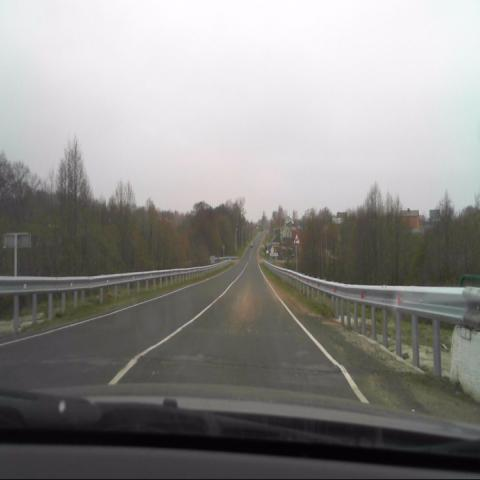1_12: (294, 233, 300, 245)
